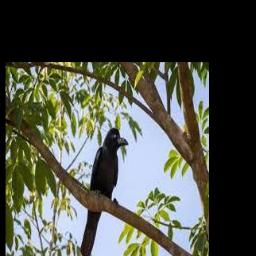Crow: (81, 128, 127, 256)
